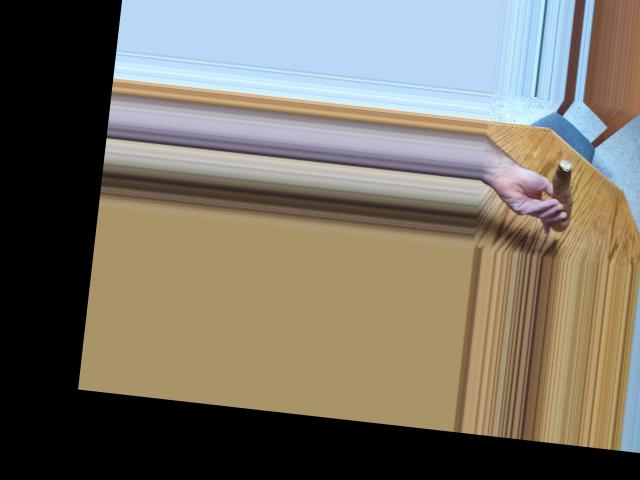sweet_potato: (549, 167, 583, 228)
